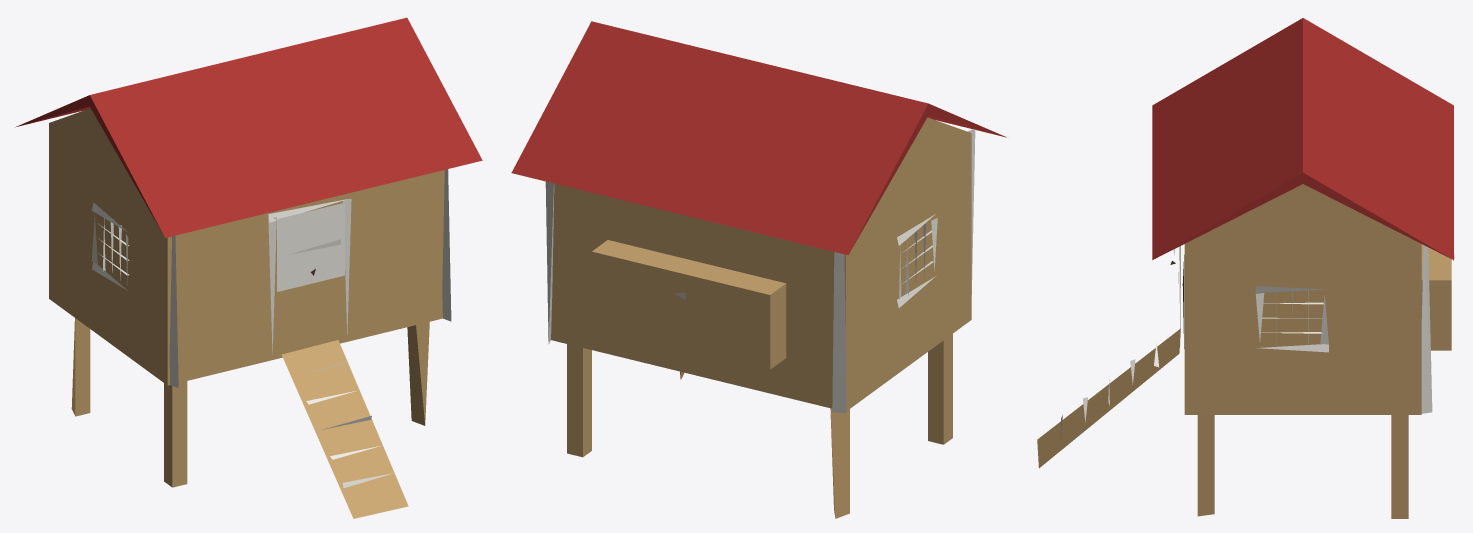
The model's file is coop.far.glb.
3 renders of one model, left to right at view 1: azimuth 30°, elevation 25°; view 2: azimuth 150°, elevation 25°; view 3: azimuth 270°, elevation 25°, orthographic. The views are drawn at different scales.
Parts seen in each view (by area): view 1: coop_far; view 2: coop_far; view 3: coop_far.
Boxes of the visible parts, x1=… form: coop_far: x1=15, y1=17, x2=482, y2=518; coop_far: x1=511, y1=21, x2=1006, y2=518; coop_far: x1=1037, y1=18, x2=1454, y2=518.
Bounding box in the file's own units: 1.74 × 1.86 × 1.96.
